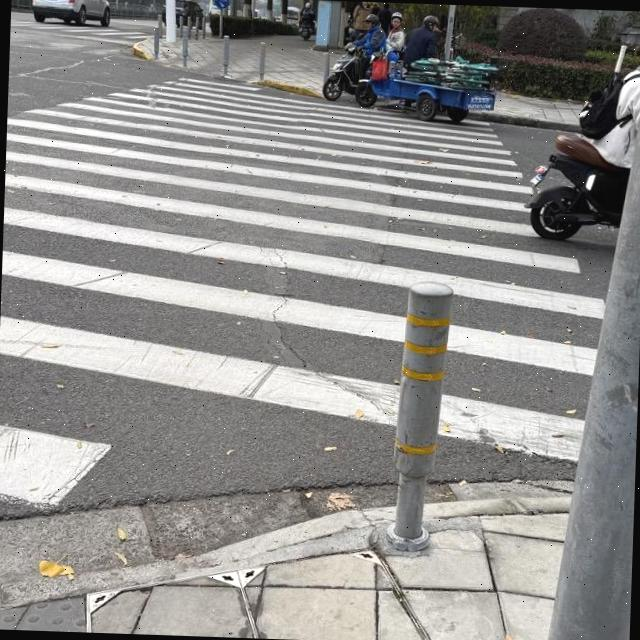curb: (0, 508, 393, 610), (425, 495, 570, 519), (466, 112, 577, 130), (255, 78, 321, 96), (132, 45, 152, 60)
